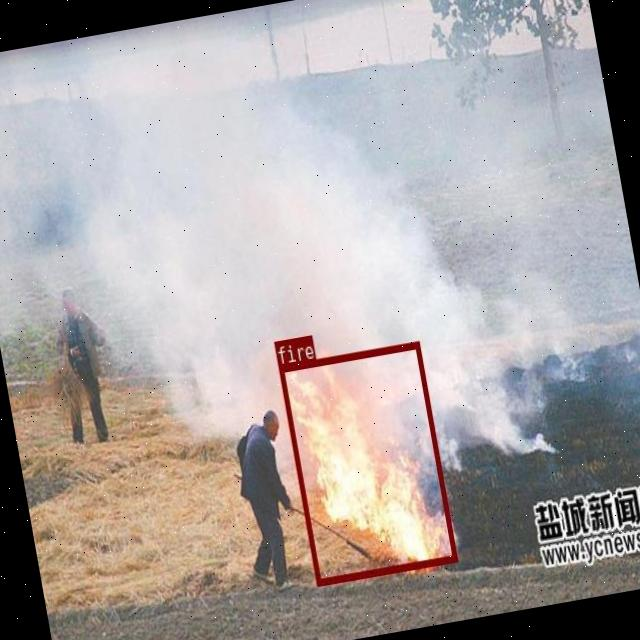fire: (277, 340, 456, 584)
